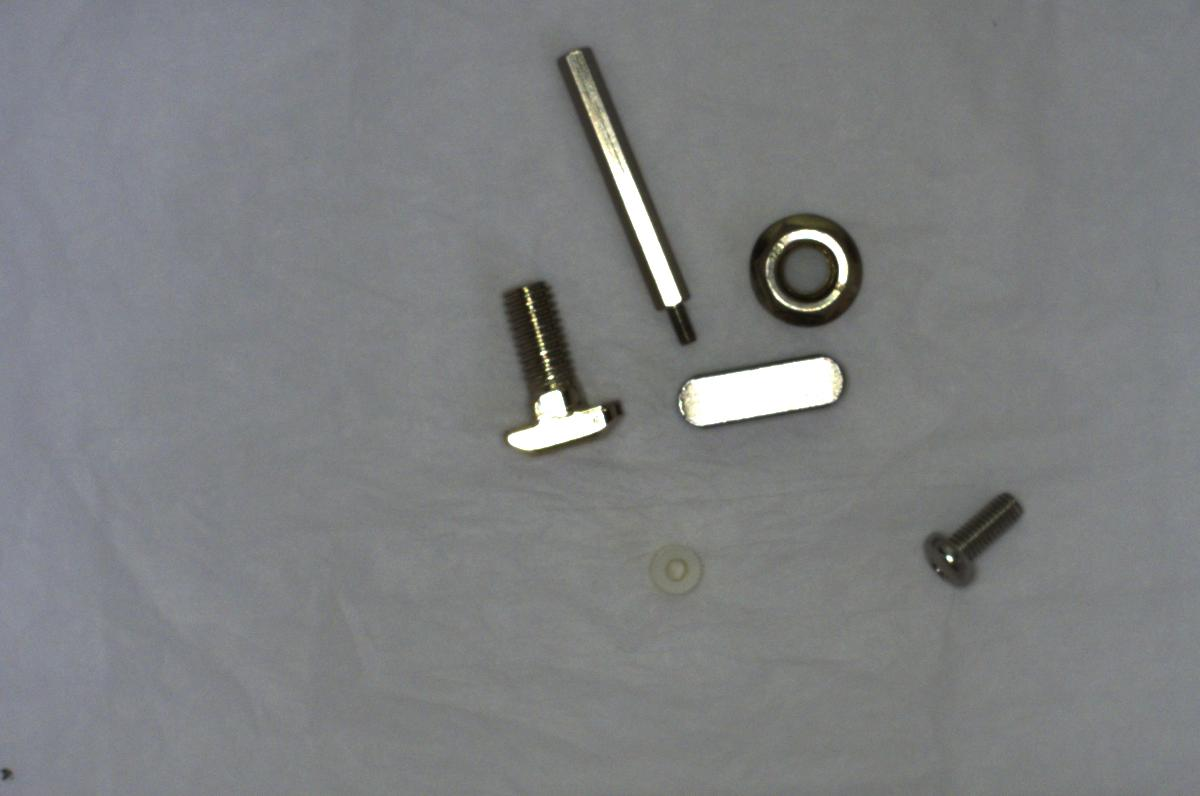Flange nut: (739, 205, 876, 341)
Hexagonal steel column: (547, 36, 698, 348)
Keybar: (664, 345, 864, 442)
Plastic cushion pillar: (643, 528, 712, 606)
Round head screw: (906, 476, 1039, 598)
T-shaped screw: (482, 265, 638, 464)
